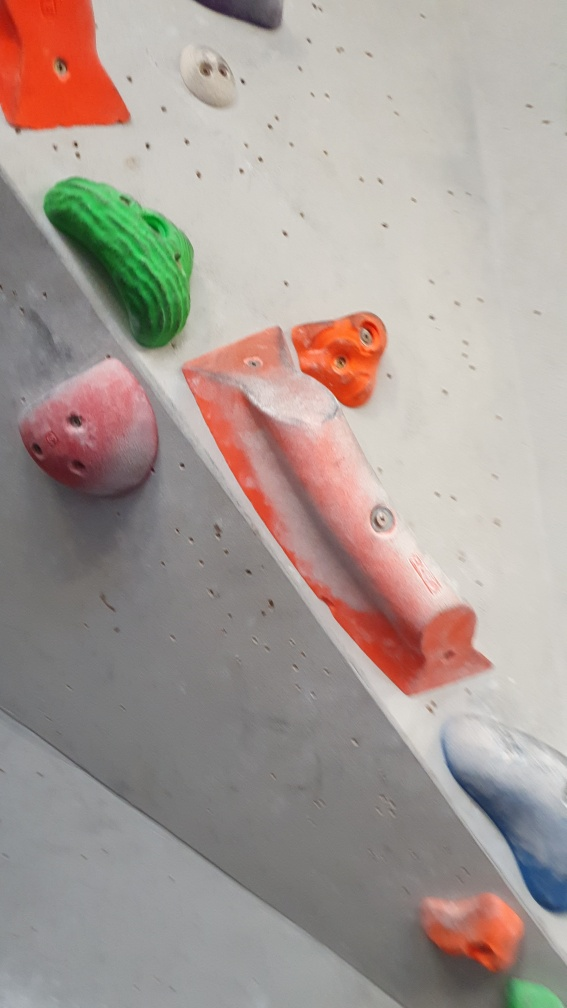Jug: (40, 166, 195, 351)
Pinch: (181, 323, 494, 697), (442, 707, 567, 909), (1, 2, 135, 138)
Sloper: (15, 356, 161, 505)
